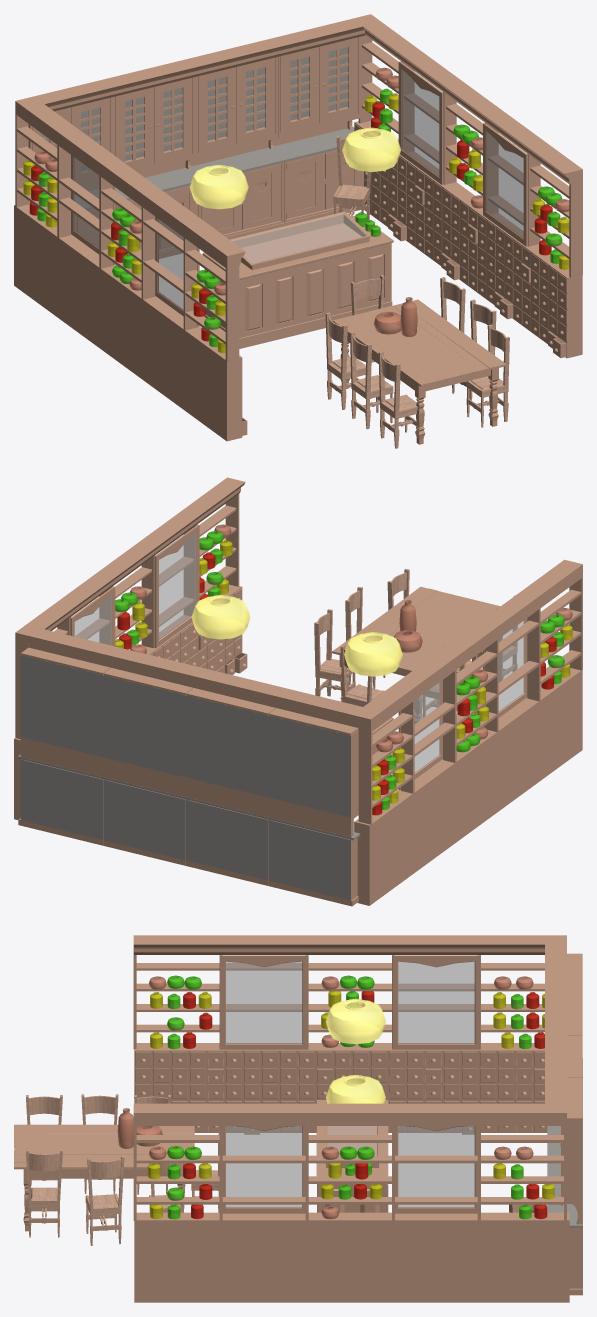
File: pharmacy.fbx
3 views of the same model, one above another, from view 1: azimuth 30°, elevation 25°; view 2: azimuth 150°, elevation 25°; view 3: azimuth 270°, elevation 25° (orthographic). The views are drawn at different scales.
Parts seen in each view (by area): view 1: Cylinder.048; view 2: Cylinder.048; view 3: Cylinder.048.
Boxes of the visible parts, x1,y1,x2,y2 form: Cylinder.048: (14,14,582,448); Cylinder.048: (14,477,582,906); Cylinder.048: (14,935,582,1302).
Size of the model in its own units: 468 by 232 by 631.
